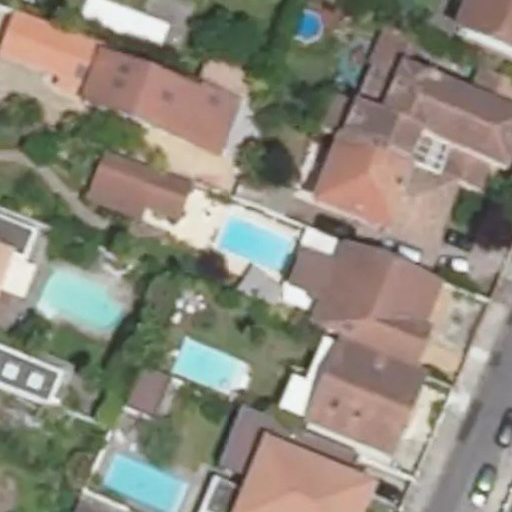pool: (43, 272, 123, 332), (105, 455, 182, 509), (219, 219, 291, 268), (178, 339, 238, 387), (293, 10, 320, 42)
